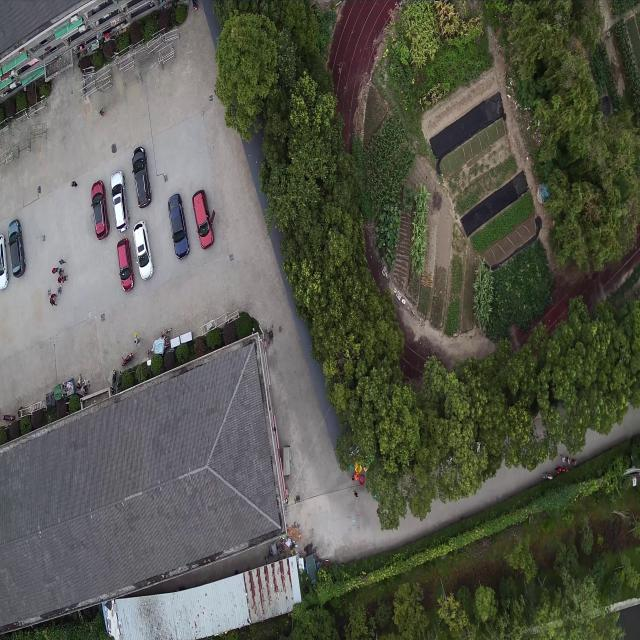UAV: (346, 512, 362, 532)
